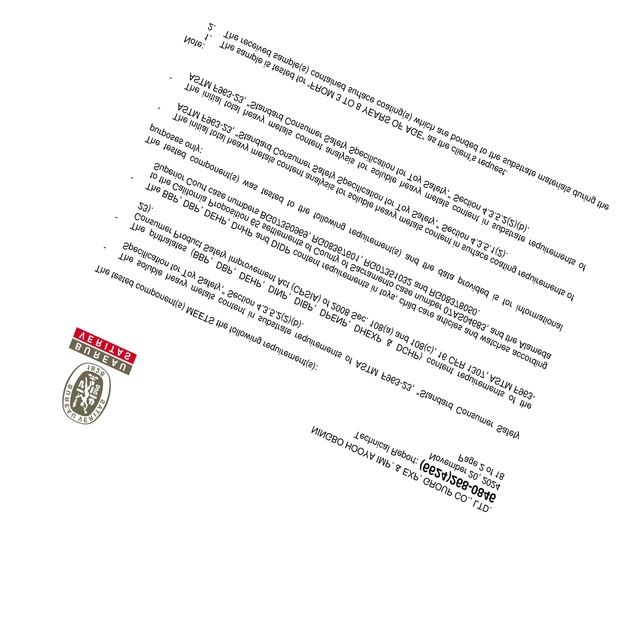bureau_veritas: (60, 324, 138, 426)
